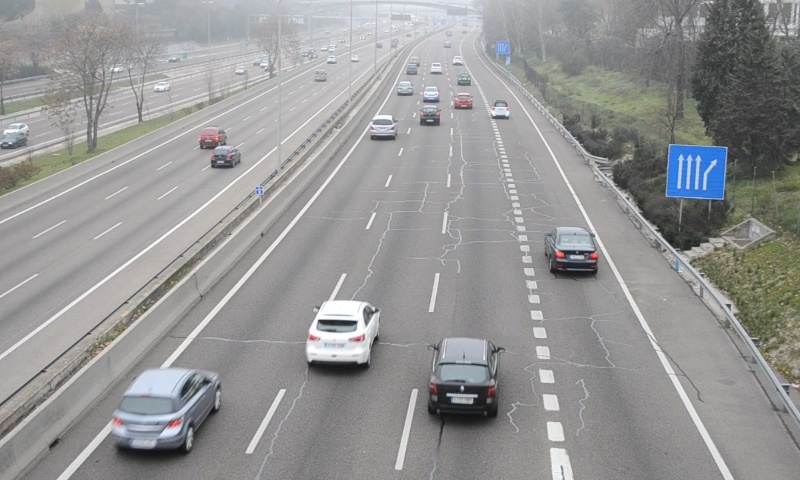car: (109, 366, 222, 454), (426, 336, 500, 422), (304, 299, 380, 365), (545, 226, 600, 278), (369, 114, 398, 140), (420, 104, 440, 126), (491, 99, 510, 120), (454, 92, 473, 110), (422, 86, 440, 103), (396, 80, 414, 96)
